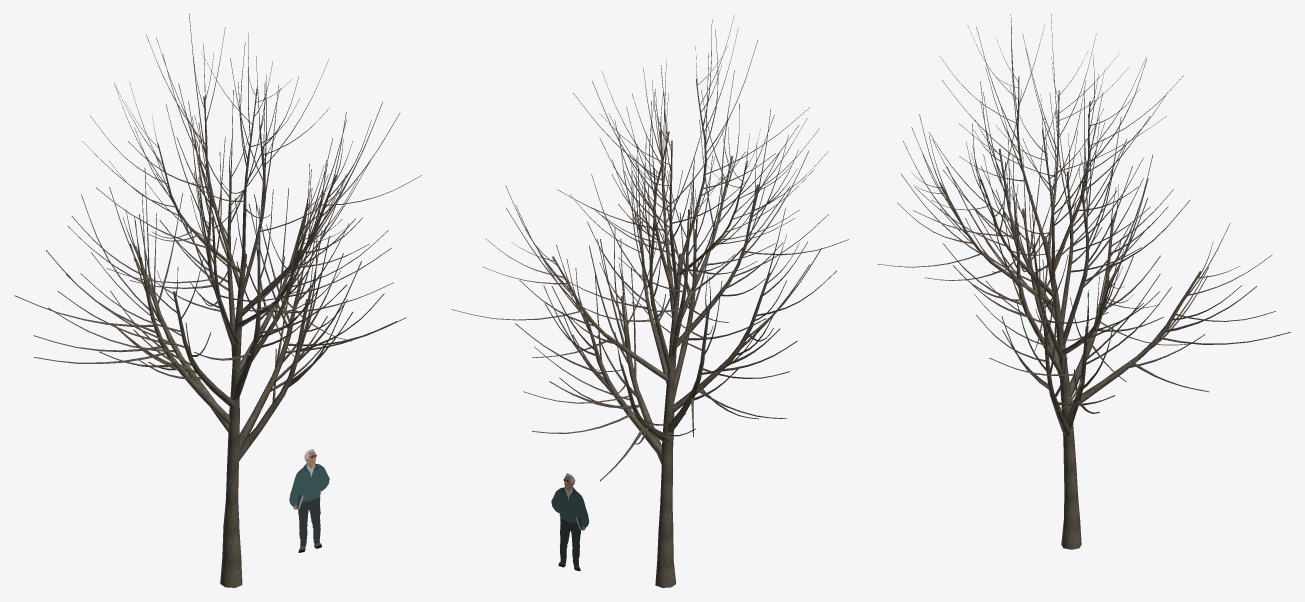
3 views of the same model, side by side, from view 1: azimuth 30°, elevation 25°; view 2: azimuth 150°, elevation 25°; view 3: azimuth 270°, elevation 25° (orthographic). The views are drawn at different scales.
Parts seen in each view (by area): view 1: stemslevel1 (×9), stemslevel0, Steve (×2); view 2: stemslevel1 (×11), stemslevel0, Steve (×2); view 3: stemslevel1 (×6), stemslevel0.
Boxes of the visible parts, left/top/right/bottom form: stemslevel1 (×9): left=134, top=96, right=337, bottom=460; stemslevel0: left=220, top=254, right=246, bottom=587; Steve (×2): left=289, top=464, right=329, bottom=546; stemslevel1 (×11): left=552, top=131, right=770, bottom=463; stemslevel0: left=655, top=253, right=683, bottom=587; Steve (×2): left=551, top=487, right=589, bottom=565; stemslevel1 (×6): left=1016, top=171, right=1201, bottom=436; stemslevel0: left=1042, top=236, right=1081, bottom=549.
Bounding box in the file's own units: 236 × 273 × 382.
13 materials, 1 textured.
